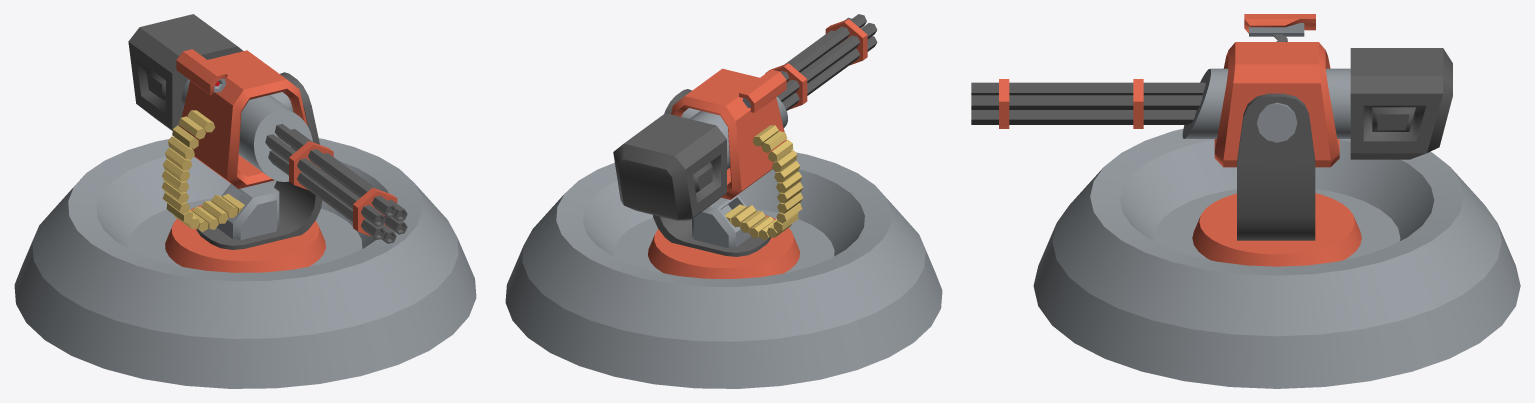
The model's file is Turret.fbx.
3 renders of one model, left to right at view 1: azimuth 30°, elevation 25°; view 2: azimuth 150°, elevation 25°; view 3: azimuth 270°, elevation 25°, orthographic. The views are drawn at different scales.
Parts seen in each view (by area): view 1: Cylinder, Cube, Cube.001, Circle, Cylinder.005, Cylinder.002, Cube.002, Cylinder.001, Cube.004, Cube.003, Cylinder.004, Cylinder.003; view 2: Cylinder, Cube.001, Cube, Cylinder.005, Cylinder.002, Circle, Cube.004, Cube.002, Cube.003, Cylinder.001, Cylinder.004, Cylinder.003; view 3: Cylinder, Cube.001, Cube.002, Circle, Cube, Cylinder.005, Cylinder.001, Cylinder.006, Cube.003, Cylinder.007, Cylinder.003, Cylinder.004.
Boxes of the visible parts, x1,y1,x2,y2 form: Cylinder: (14, 138, 476, 388); Cube: (179, 50, 307, 188); Cube.001: (128, 14, 243, 130); Circle: (265, 124, 407, 243); Cylinder.005: (165, 205, 325, 272); Cylinder.002: (161, 110, 244, 231); Cube.002: (196, 72, 322, 249); Cylinder.001: (181, 79, 312, 181); Cube.004: (217, 182, 279, 240); Cube.003: (176, 49, 227, 95); Cylinder.004: (353, 187, 397, 236); Cylinder.003: (289, 141, 333, 189); Cylinder: (505, 152, 942, 388); Cube.001: (613, 113, 726, 220); Cube: (671, 68, 786, 199); Cylinder.005: (648, 215, 799, 278); Cylinder.002: (725, 125, 803, 240); Circle: (777, 14, 877, 110); Cube.004: (692, 195, 750, 248); Cube.002: (653, 89, 770, 256); Cube.003: (739, 69, 786, 112); Cylinder.001: (690, 97, 787, 169); Cylinder.004: (825, 19, 867, 65); Cylinder.003: (765, 63, 807, 109); Cylinder: (1033, 128, 1520, 388); Cube.001: (1350, 48, 1452, 159); Cube.002: (1237, 93, 1315, 240); Circle: (971, 82, 1205, 124); Cube: (1214, 42, 1339, 167); Cylinder.005: (1192, 193, 1361, 266); Cylinder.001: (1182, 68, 1350, 138); Cylinder.006: (1257, 102, 1297, 142); Cube.003: (1244, 14, 1315, 33); Cylinder.007: (1249, 23, 1304, 36); Cylinder.003: (1133, 79, 1143, 128); Cylinder.004: (999, 79, 1009, 128).
Bounding box in the file's own units: 200 × 113 × 226.
